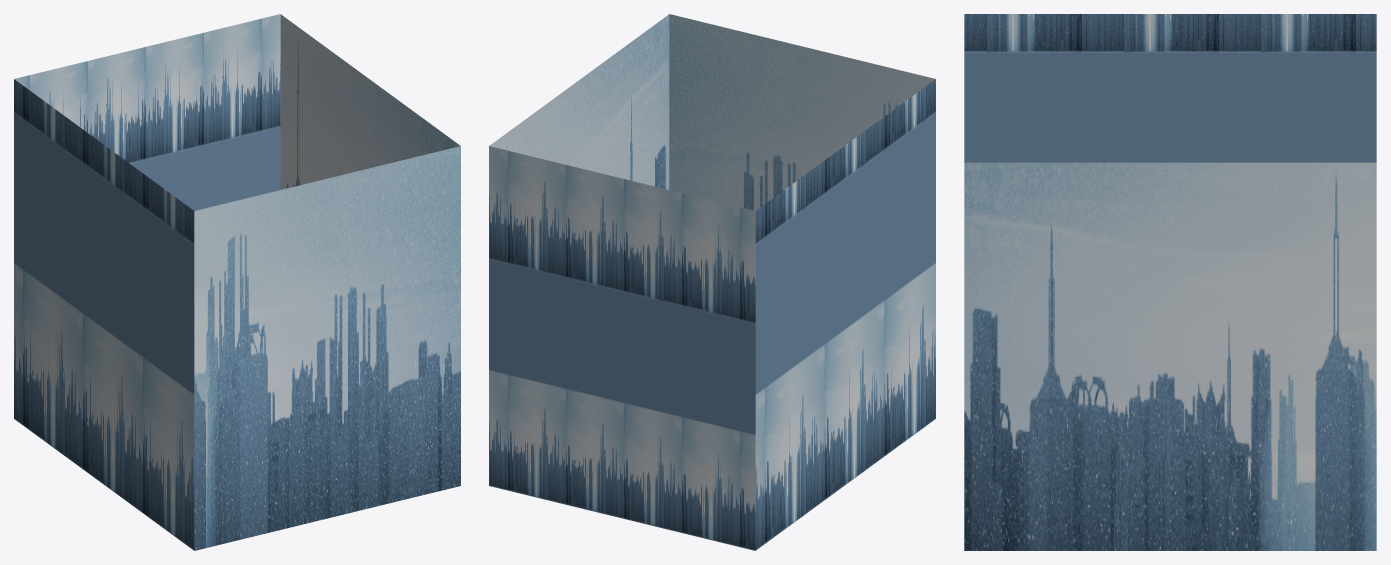
3 renders of one model, left to right at view 1: azimuth 30°, elevation 25°; view 2: azimuth 150°, elevation 25°; view 3: azimuth 270°, elevation 25°, orthographic. The views are drawn at different scales.
Visible parts, largest first — view 1: BG; view 2: BG; view 3: BG.
Part boxes in pixels (x1,y1,x2,y2): BG: (14,14,460,550); BG: (489,14,935,550); BG: (964,14,1376,550).
Size of the model in its own units: 14307 by 17443 by 16780.
Materials: 1 (1 with a texture image).
